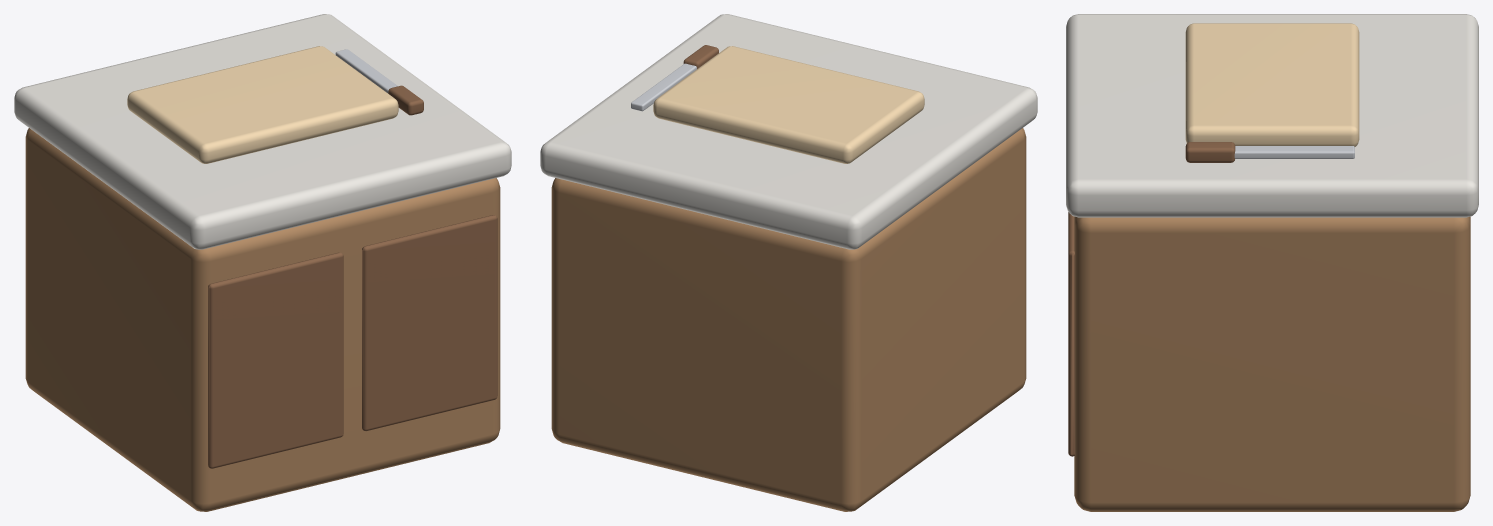
The model's file is board.glb.
3 views of the same model, side by side, from view 1: azimuth 30°, elevation 25°; view 2: azimuth 150°, elevation 25°; view 3: azimuth 270°, elevation 25° (orthographic). The views are drawn at different scales.
Parts seen in each view (by area): view 1: cabinet, top, door-0.24, door0.24, board, blade, handle; view 2: cabinet, top, board, blade; view 3: cabinet, top, board, door0.24, blade, handle.
Part boxes in pixels (x1,y1,x2,y2): cabinet: (25, 128, 500, 511); top: (14, 14, 511, 249); door-0.24: (208, 252, 343, 468); door0.24: (362, 215, 497, 431); board: (127, 46, 398, 163); blade: (335, 49, 397, 93); handle: (388, 85, 423, 115); cabinet: (551, 128, 1026, 511); top: (540, 14, 1037, 249); board: (653, 46, 924, 163); blade: (631, 63, 696, 111); cabinet: (1074, 216, 1470, 511); top: (1066, 14, 1478, 217); board: (1185, 23, 1359, 146); door0.24: (1068, 212, 1074, 456); blade: (1234, 146, 1354, 158); handle: (1185, 142, 1235, 162).
Size of the model in its own units: 1 by 0.96 by 1.
